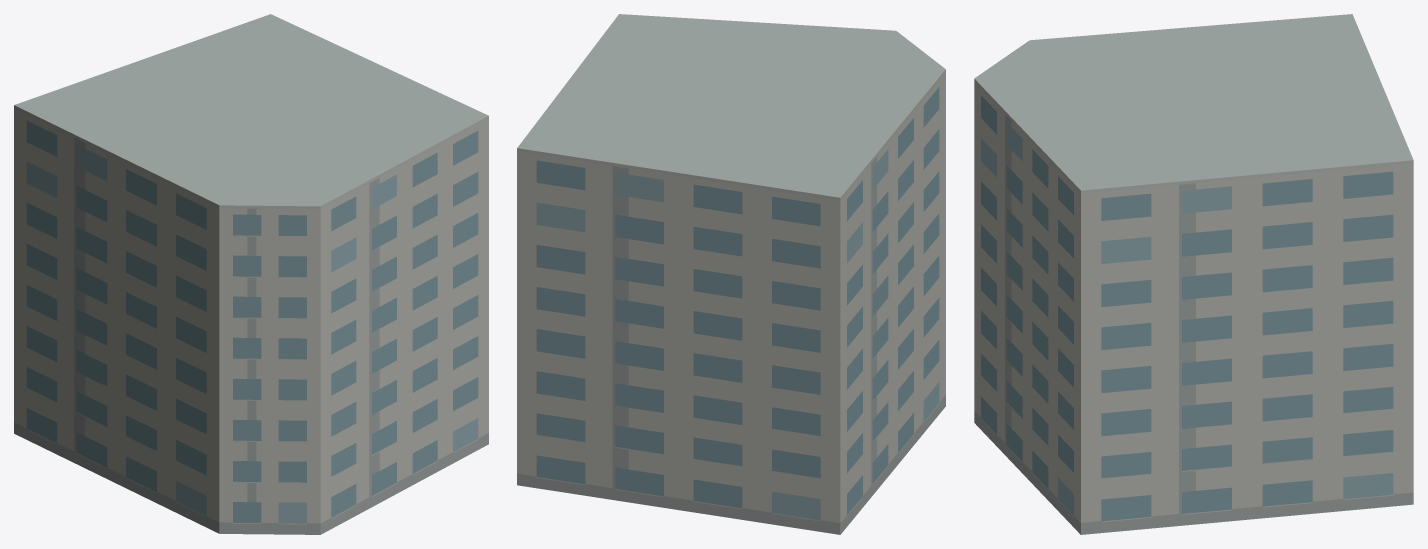
Rendered from survey-upis-32650405.glb.
3 views of the same model, side by side, from view 1: azimuth 30°, elevation 25°; view 2: azimuth 150°, elevation 25°; view 3: azimuth 270°, elevation 25° (orthographic). The views are drawn at different scales.
Visible parts, largest first — view 1: survey-upis-32650405.tmp; view 2: survey-upis-32650405.tmp; view 3: survey-upis-32650405.tmp.
Boxes of the visible parts, <box> form: survey-upis-32650405.tmp: <box>14,14,488,534</box>; survey-upis-32650405.tmp: <box>517,14,945,534</box>; survey-upis-32650405.tmp: <box>974,14,1413,534</box>.
Bounding box in the file's own units: 28.61 × 26 × 30.07.
